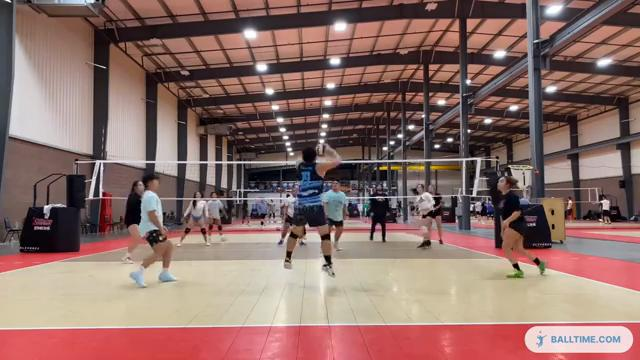alzata: (282, 142, 341, 280)
